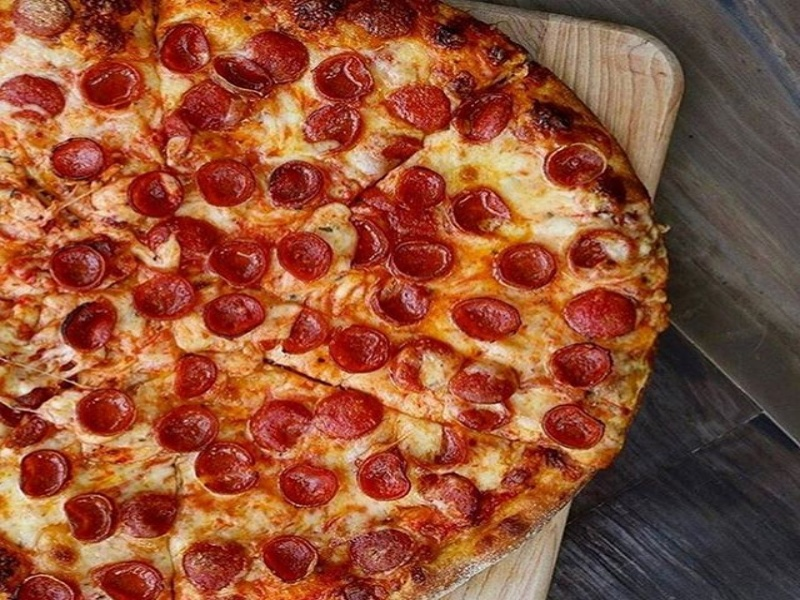peperoni: (563, 285, 637, 342), (565, 227, 644, 280), (420, 470, 485, 531), (144, 215, 216, 270), (249, 398, 318, 455), (540, 140, 610, 193), (385, 81, 452, 136), (543, 340, 615, 391), (493, 240, 561, 293), (395, 332, 458, 389), (449, 185, 515, 239), (3, 72, 69, 126), (316, 387, 383, 440), (450, 295, 522, 344), (131, 270, 197, 323), (310, 49, 377, 101), (184, 77, 245, 134), (152, 402, 220, 453), (445, 359, 518, 406), (47, 240, 107, 297), (181, 540, 248, 591), (192, 158, 258, 209), (205, 235, 269, 287), (61, 298, 120, 354), (201, 291, 267, 341), (77, 59, 141, 110), (544, 399, 609, 449), (328, 325, 390, 375), (201, 444, 258, 498), (252, 32, 310, 85), (155, 23, 215, 74), (296, 103, 361, 150), (122, 489, 180, 541), (456, 89, 514, 141), (76, 388, 136, 438), (267, 159, 322, 213), (261, 535, 319, 586), (277, 232, 334, 283), (387, 237, 450, 283), (46, 136, 108, 182), (210, 54, 276, 97), (63, 492, 116, 545), (355, 452, 410, 503), (16, 448, 71, 499), (371, 280, 430, 326), (123, 170, 183, 215), (346, 531, 415, 570), (279, 464, 339, 508), (279, 305, 327, 355), (393, 164, 445, 209), (172, 354, 217, 401)
